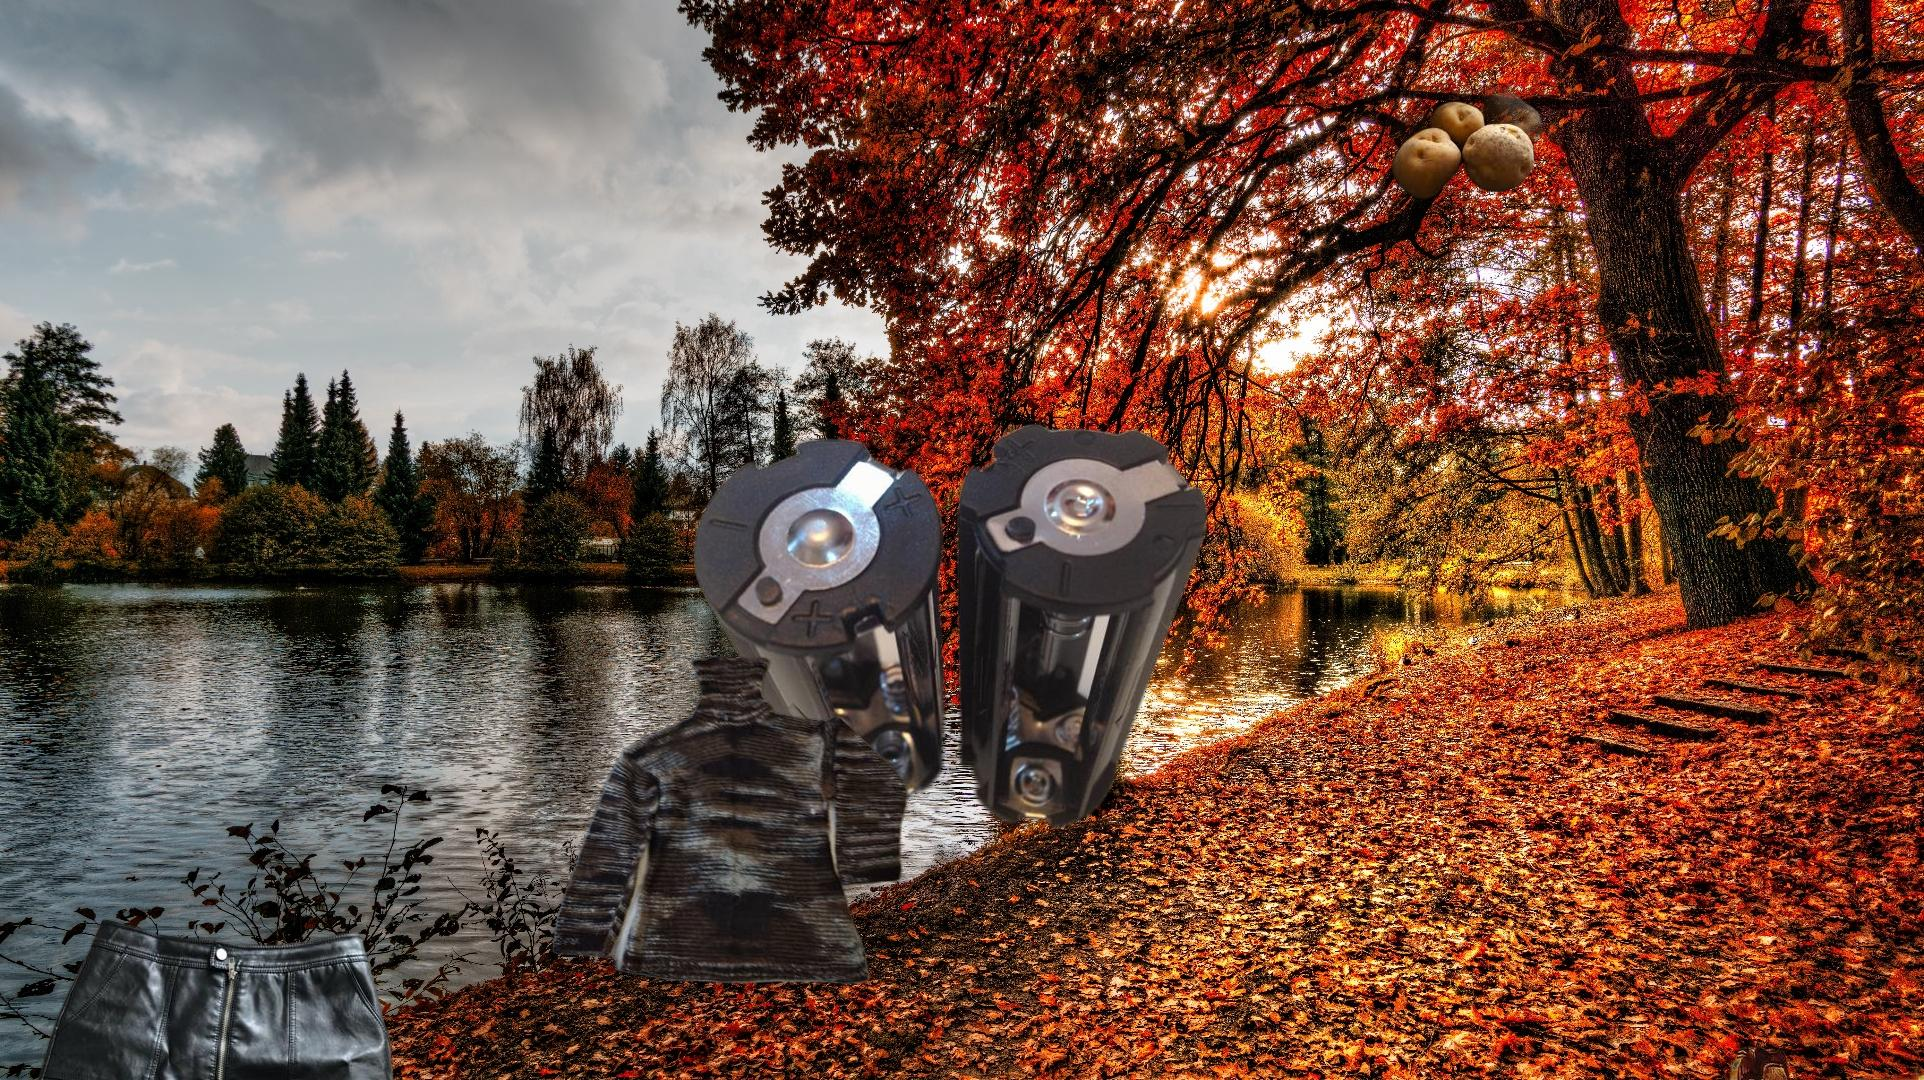battery: (686, 416, 1214, 835)
biological: (1701, 927, 1924, 1080), (1377, 85, 1561, 204)
clothes: (548, 652, 913, 991), (11, 915, 410, 1080)
